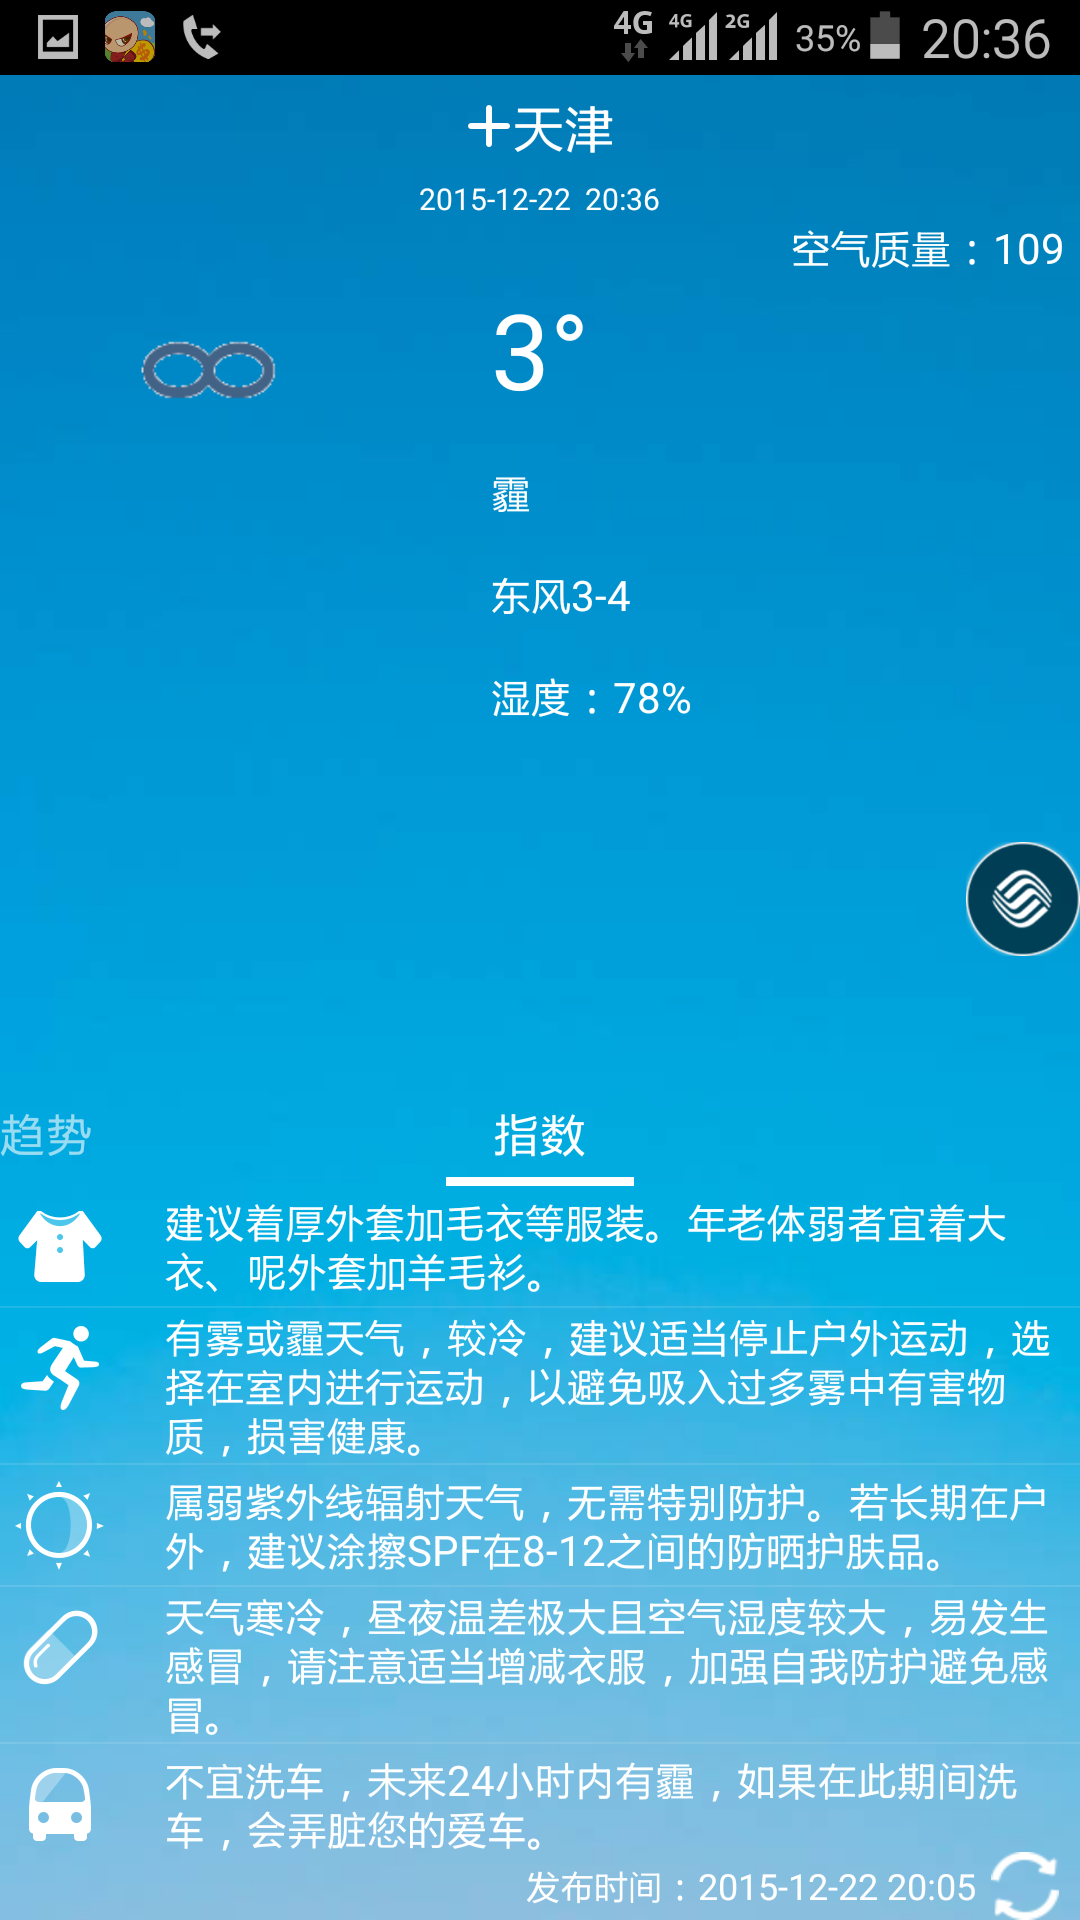textview: (140, 1208, 1035, 1828)
